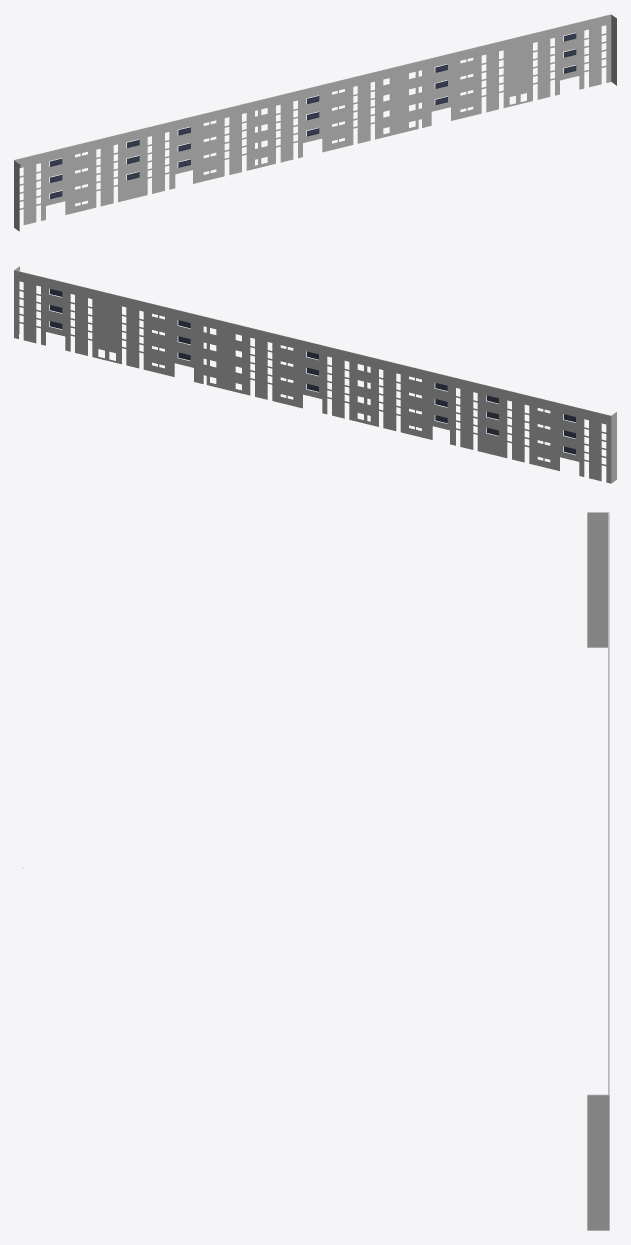
File: brgz.glb
3 renders of one model, top to bottom at view 1: azimuth 30°, elevation 25°; view 2: azimuth 150°, elevation 25°; view 3: azimuth 270°, elevation 25°, orthographic. The views are drawn at different scales.
Parts seen in each view (by area): view 1: go2qt, Material #122; view 2: go2qt, Material #122; view 3: go2qt.
Boxes of the visible parts, <box> form: go2qt: <box>14,14,616,231</box>; Material #122: <box>50,33,576,199</box>; go2qt: <box>14,266,616,483</box>; Material #122: <box>50,289,575,454</box>; go2qt: <box>587,512,609,1230</box>.
Size of the model in its own units: 186000 by 20150 by 79272.
Materials: 12 (3 with a texture image).
